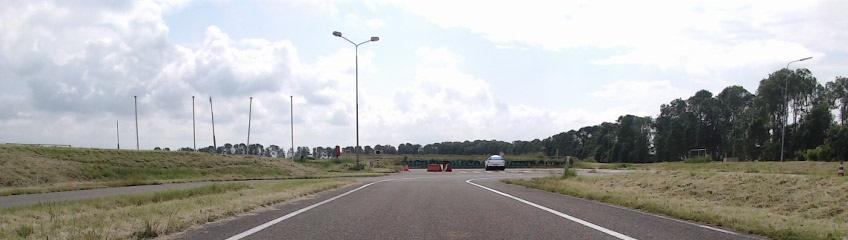Car: (485, 155, 505, 171)
